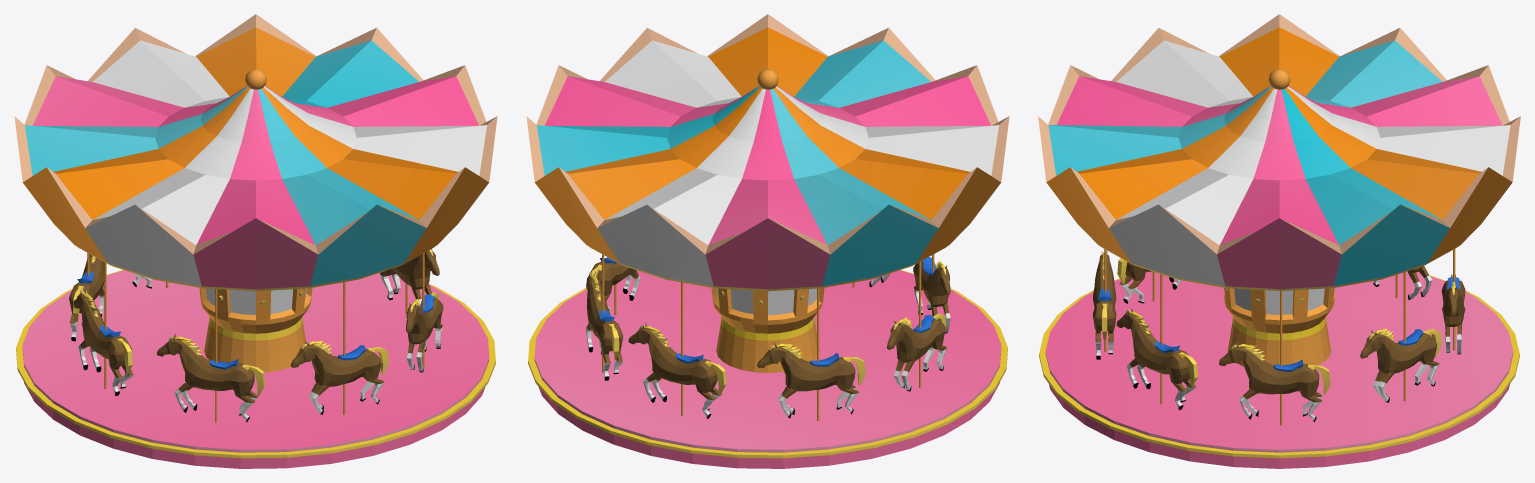
Rendered from carousel.fbx.
3 views of the same model, side by side, from view 1: azimuth 30°, elevation 25°; view 2: azimuth 150°, elevation 25°; view 3: azimuth 270°, elevation 25° (orthographic).
Visible parts, largest first — view 1: Tent, Platform, HORSE.008_MANE.007, HORSE.008_MANE, HORSE.008_MANE.002, HORSE.008_MANE.004, HORSE.008_MANE.003, HORSE.008_MANE.005; view 2: Tent, Platform, HORSE.008_MANE.005, HORSE.008_MANE.001, HORSE.008_MANE.002, HORSE.008_MANE.006, HORSE.008_MANE.007, HORSE.008_MANE.003; view 3: Tent, Platform, HORSE.008_MANE.003, HORSE.008_MANE.004, HORSE.008_MANE.006, HORSE.008_MANE, HORSE.008_MANE.001, HORSE.008_MANE.007.
Part boxes in pixels (<box>): Tent: <box>14,14,497,372</box>; Platform: <box>16,270,495,468</box>; HORSE.008_MANE.007: <box>157,333,265,422</box>; HORSE.008_MANE: <box>291,340,388,414</box>; HORSE.008_MANE.002: <box>73,289,133,395</box>; HORSE.008_MANE.004: <box>406,292,443,372</box>; HORSE.008_MANE.003: <box>379,249,439,303</box>; HORSE.008_MANE.005: <box>69,254,104,341</box>; Tent: <box>526,14,1009,372</box>; Platform: <box>528,270,1007,468</box>; HORSE.008_MANE.005: <box>757,342,865,418</box>; HORSE.008_MANE.001: <box>628,323,726,418</box>; HORSE.008_MANE.002: <box>887,313,946,391</box>; HORSE.008_MANE.006: <box>586,272,623,380</box>; HORSE.008_MANE.007: <box>913,261,950,333</box>; HORSE.008_MANE.003: <box>588,261,640,314</box>; Tent: <box>1038,14,1520,366</box>; Platform: <box>1039,271,1519,468</box>; HORSE.008_MANE.003: <box>1219,342,1330,422</box>; HORSE.008_MANE.004: <box>1116,308,1197,410</box>; HORSE.008_MANE.006: <box>1360,328,1441,402</box>; HORSE.008_MANE: <box>1093,251,1116,359</box>; HORSE.008_MANE.001: <box>1441,274,1465,354</box>; HORSE.008_MANE.007: <box>1117,258,1180,303</box>.
Size of the model in its own units: 11.92 by 8.18 by 11.92.
